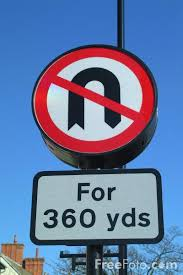No_u_turn: (33, 44, 158, 155)
